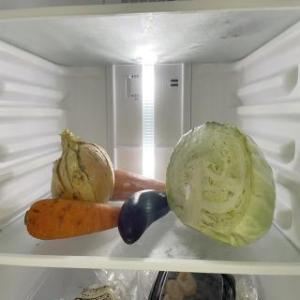cabbage: (165, 120, 277, 250)
carrot: (24, 198, 120, 240), (106, 168, 164, 199)
eggplant: (117, 190, 169, 244)
onion: (47, 132, 116, 206)
